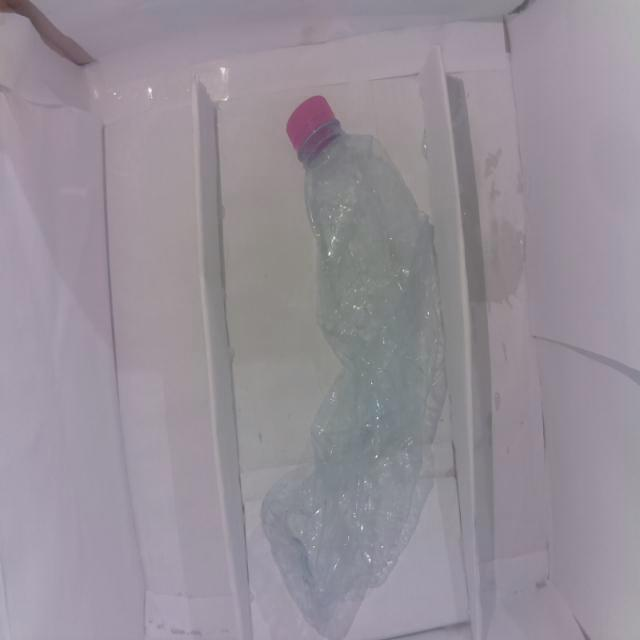bottle: (261, 96, 447, 640)
